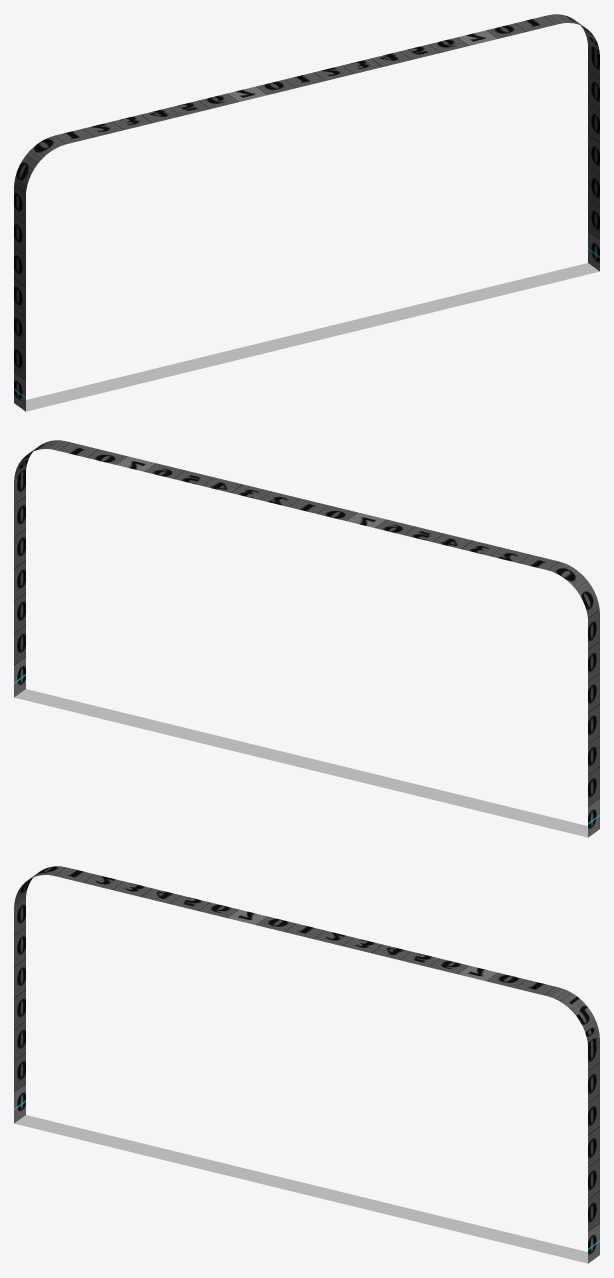
File: WallFrameRound700x300x25cm.FBX
The picture shows the model from 3 angles, top to bottom: view 1: azimuth 30°, elevation 25°; view 2: azimuth 150°, elevation 25°; view 3: azimuth 330°, elevation 25°; orthographic projection.
Parts seen in each view (by area): view 1: WallFrameRound700x25cm; view 2: WallFrameRound700x25cm; view 3: WallFrameRound700x25cm.
Part boxes in pixels (x1,y1,x2,y2): WallFrameRound700x25cm: (14,14,599,411); WallFrameRound700x25cm: (14,440,599,837); WallFrameRound700x25cm: (14,866,599,1263).
Size of the model in its own units: 700 by 300 by 25.
